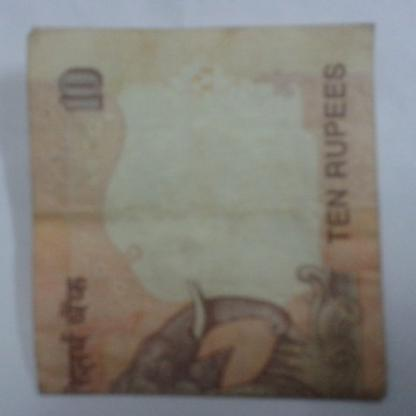Old10Back: (26, 23, 388, 401)
